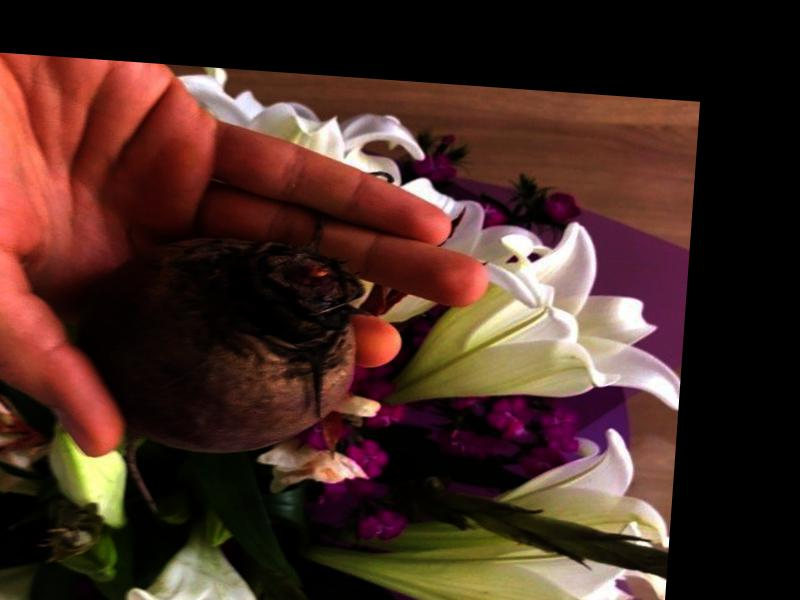Beet: (66, 227, 364, 529)
